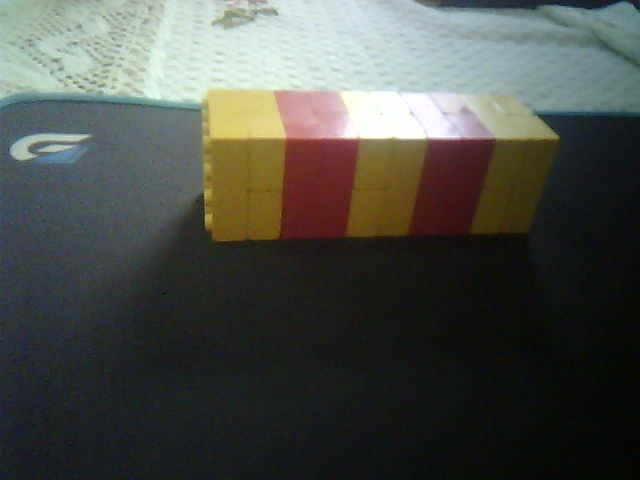lego: (200, 88, 561, 244)
